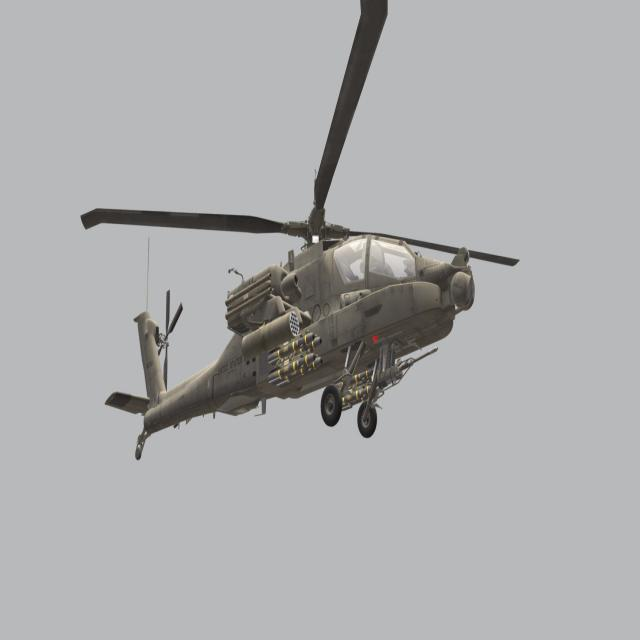Apache: (86, 1, 514, 456)
